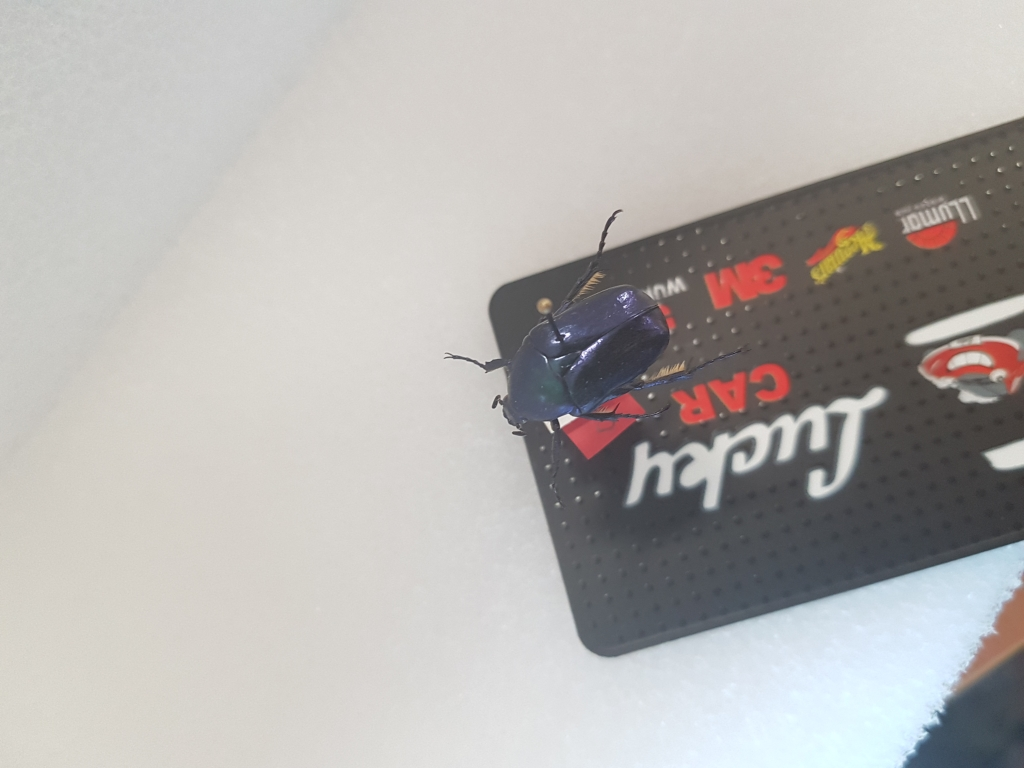Protaetia_besucheti: (434, 194, 686, 458)
